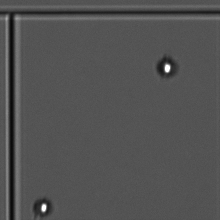Living Cell: (150, 50, 183, 83), (33, 196, 54, 217)
